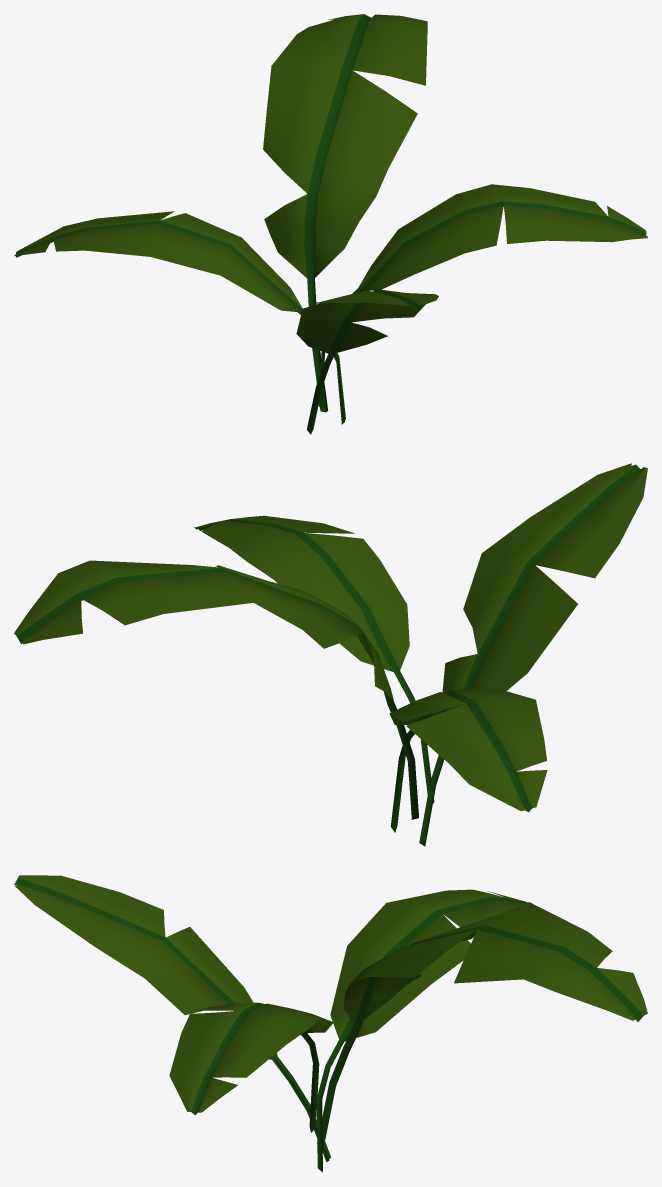
Rendered from SM_Large_Leaf_Plant_B.fbx.
The picture shows the model from 3 angles, top to bottom: view 1: azimuth 30°, elevation 25°; view 2: azimuth 150°, elevation 25°; view 3: azimuth 270°, elevation 25°; orthographic projection. The views are drawn at different scales.
Visible parts, largest first — view 1: SM_Large_Leaf_Plant_B.001; view 2: SM_Large_Leaf_Plant_B.001; view 3: SM_Large_Leaf_Plant_B.001.
Part boxes in pixels (x1,y1,x2,y2): SM_Large_Leaf_Plant_B.001: [14, 14, 647, 434]; SM_Large_Leaf_Plant_B.001: [14, 463, 647, 846]; SM_Large_Leaf_Plant_B.001: [14, 875, 647, 1172].
Bounding box in the file's own units: 175 × 197 × 102.
